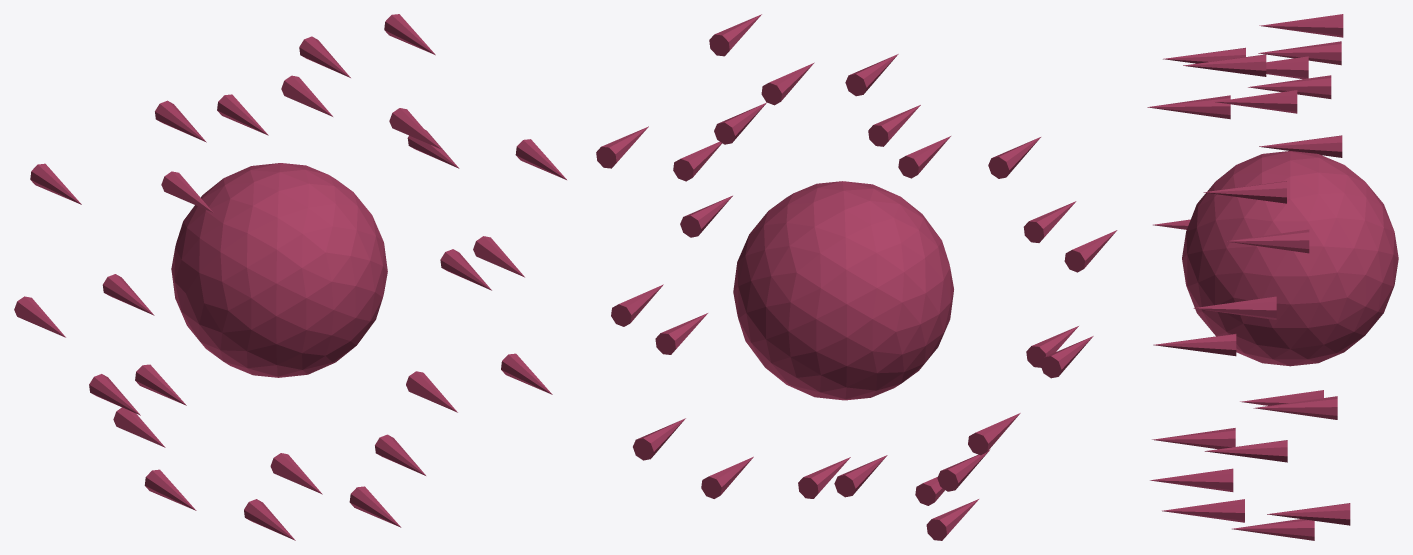
Rendered from nature_180.glb.
3 views of the same model, side by side, from view 1: azimuth 30°, elevation 25°; view 2: azimuth 150°, elevation 25°; view 3: azimuth 270°, elevation 25° (orthographic). The views are drawn at different scales.
Visible parts, largest first — view 1: world; view 2: world; view 3: world.
Part boxes in pixels (left/top/right/bottom): world: left=14, top=14, right=566, bottom=540; world: left=596, top=14, right=1117, bottom=540; world: left=1147, top=14, right=1398, bottom=540.
Size of the model in its own units: 2.35 by 2.11 by 1.05.
